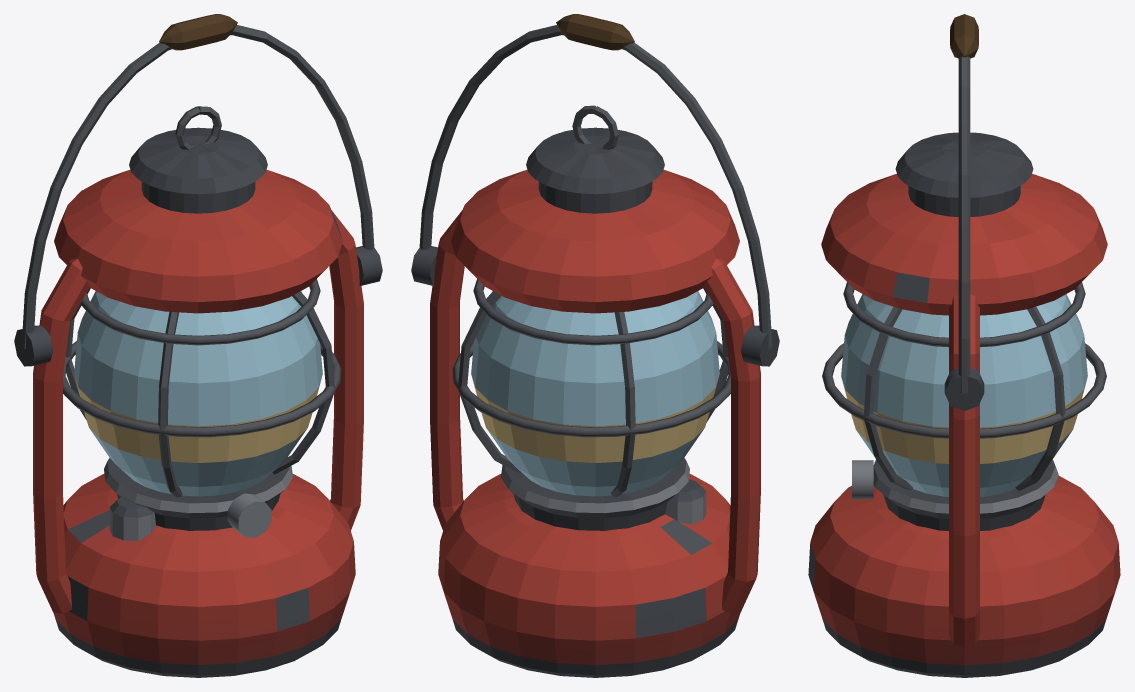
Rendered from lantern.glb.
3 views of the same model, side by side, from view 1: azimuth 30°, elevation 25°; view 2: azimuth 150°, elevation 25°; view 3: azimuth 270°, elevation 25° (orthographic).
Visible parts, largest first — view 1: lantern; view 2: lantern; view 3: lantern.
Boxes of the visible parts, left/top/right/bottom form: lantern: left=14, top=14, right=382, bottom=677; lantern: left=411, top=14, right=779, bottom=677; lantern: left=808, top=14, right=1120, bottom=677.
Size of the model in its own units: 0.2215 by 0.363 by 0.172.
